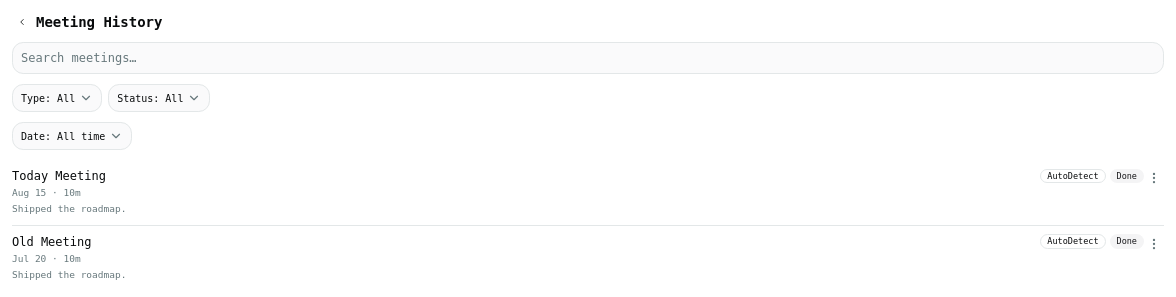
it: MeetingHistory › Date filter › narrows to only today's meetings when 'Today' is selected
Check: the text "Today Meeting" is shown, box left=12, top=168, right=106, bottom=184
Click the dropdown labelled "Date: All time". click: (72, 136)
box: left=12, top=122, right=132, bottom=150
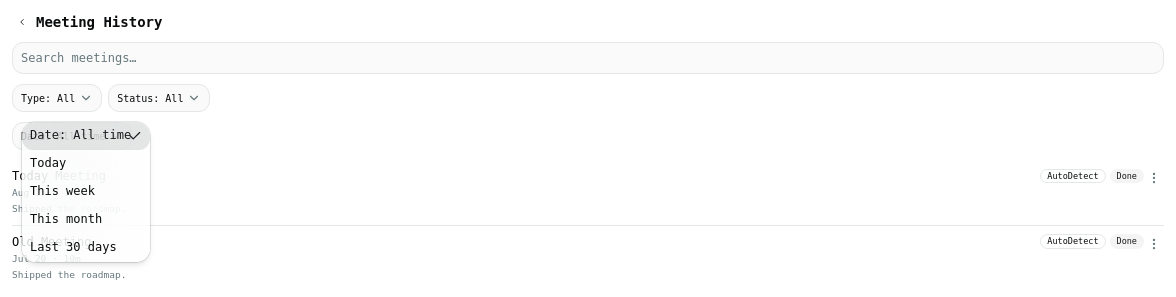
Click the option "Today". click: (48, 163)
box: left=30, top=156, right=66, bottom=170
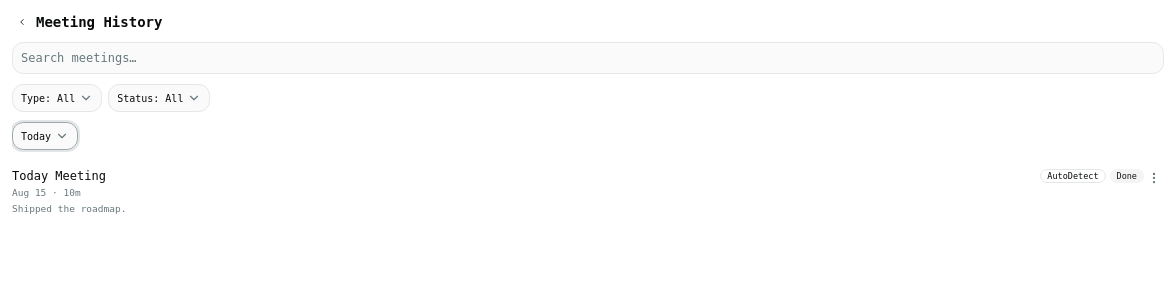
Check: the text "Today Meeting" is shown, box left=12, top=168, right=106, bottom=184
Check: the text "Old Meeting" is gone
